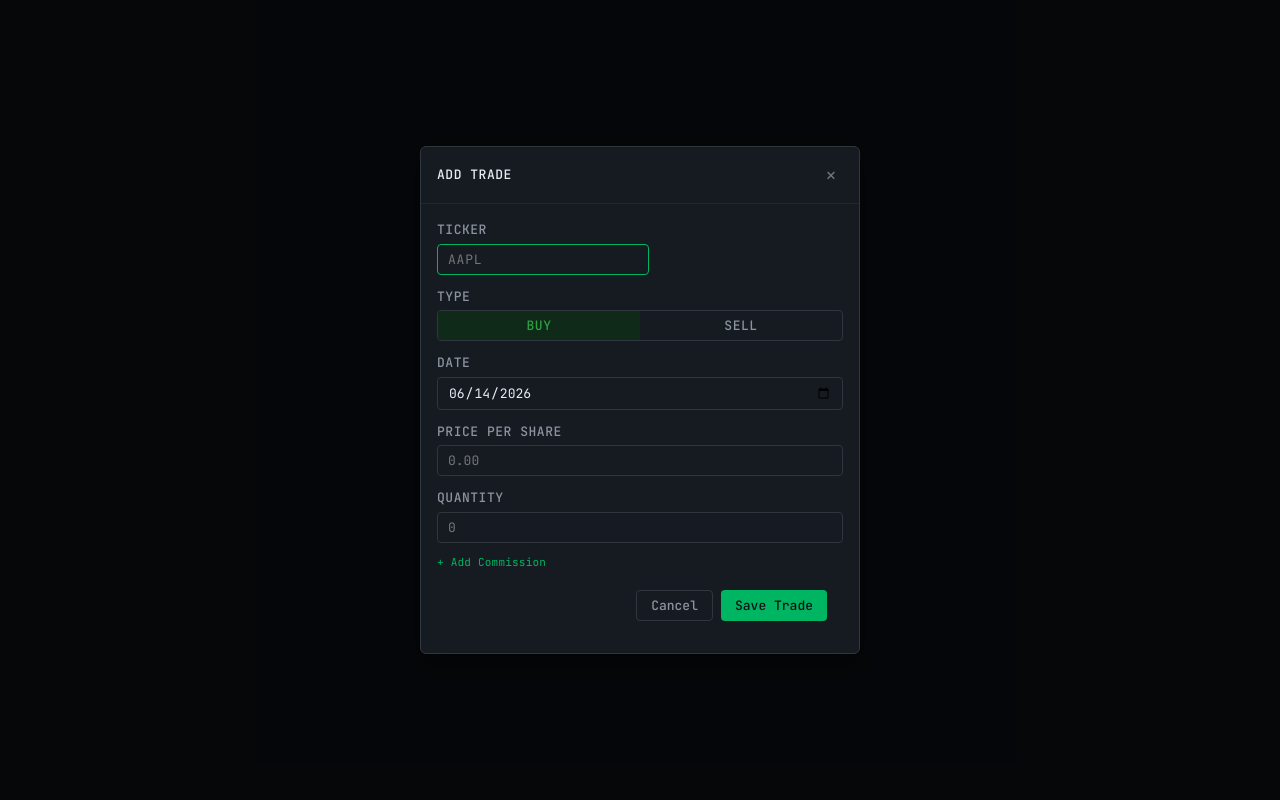
AddTradeModal › commission field hidden by default, shown after link click
Click the button "+ Add Commission".
click(492, 562)  # box [437,554,843,570]
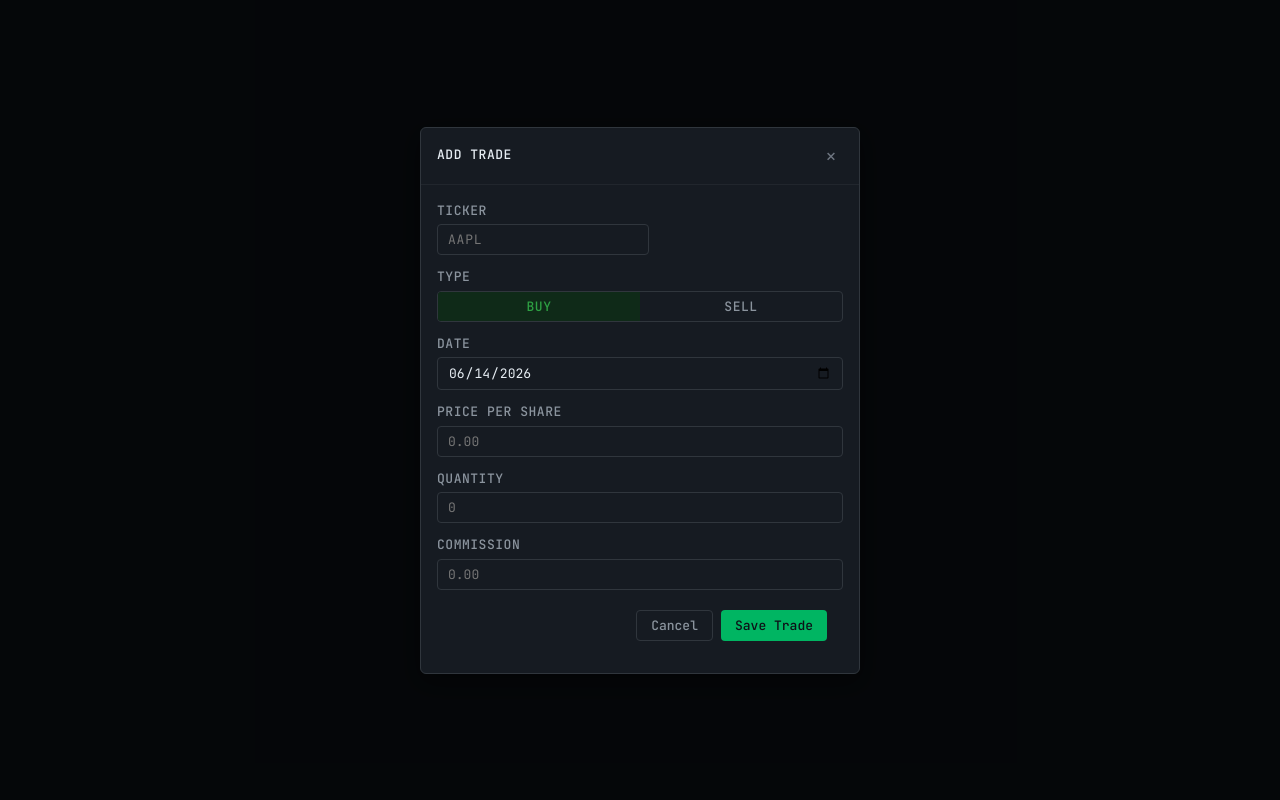
Now the number field labelled "Commission" is shown, box [437,558,843,590]
